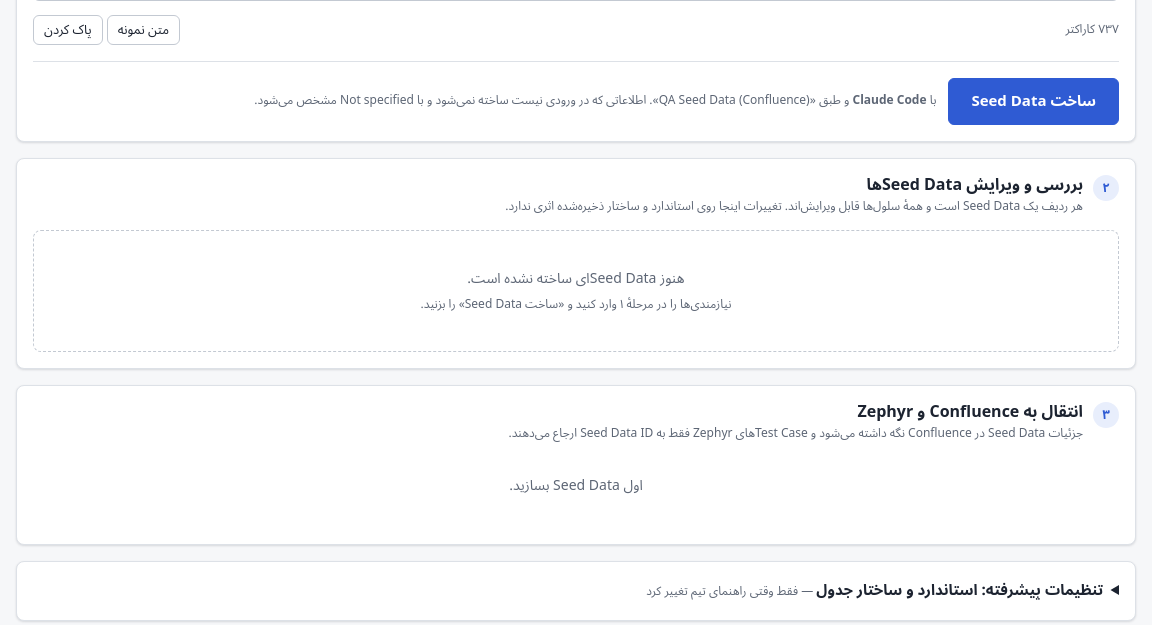
Scenario: workspace › starts with the Seed Data guide, the QA Seed Data standard and template, and example notes
The image size is (1152, 625).
(page scrolled)
Click the text "تنظیمات پیشرفته: استاندارد و ساختار جدول" at (960, 590), box [816, 574, 1103, 606]
(page scrolled)
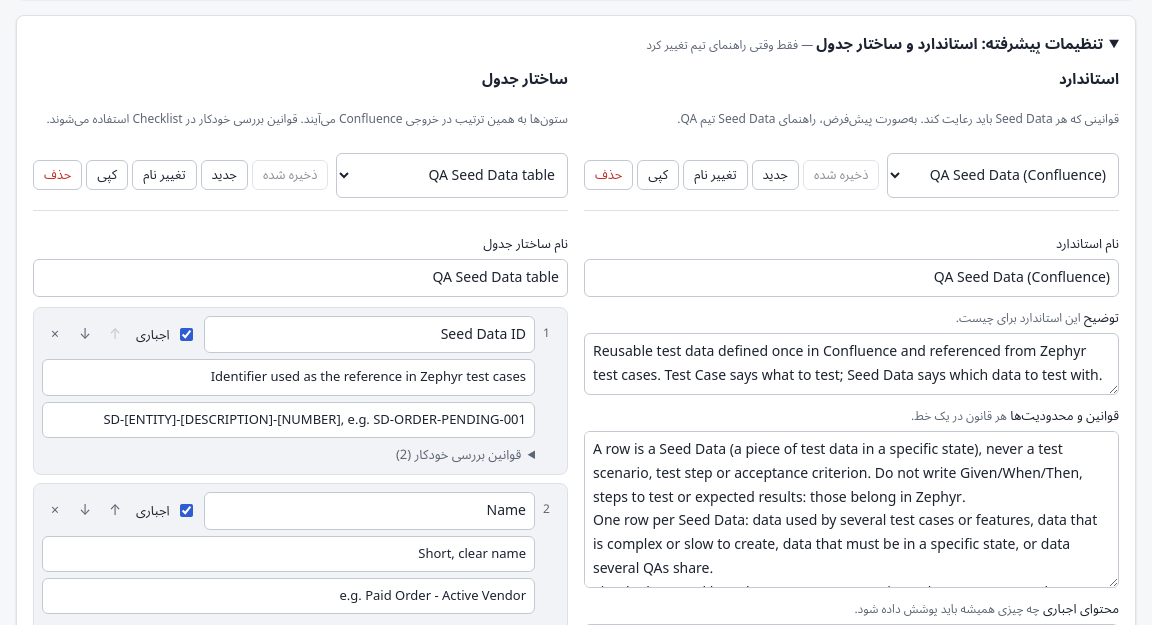
Expected: the field labelled "نام استاندارد" holds "QA Seed Data (Confluence)", [584, 259, 1119, 297]
